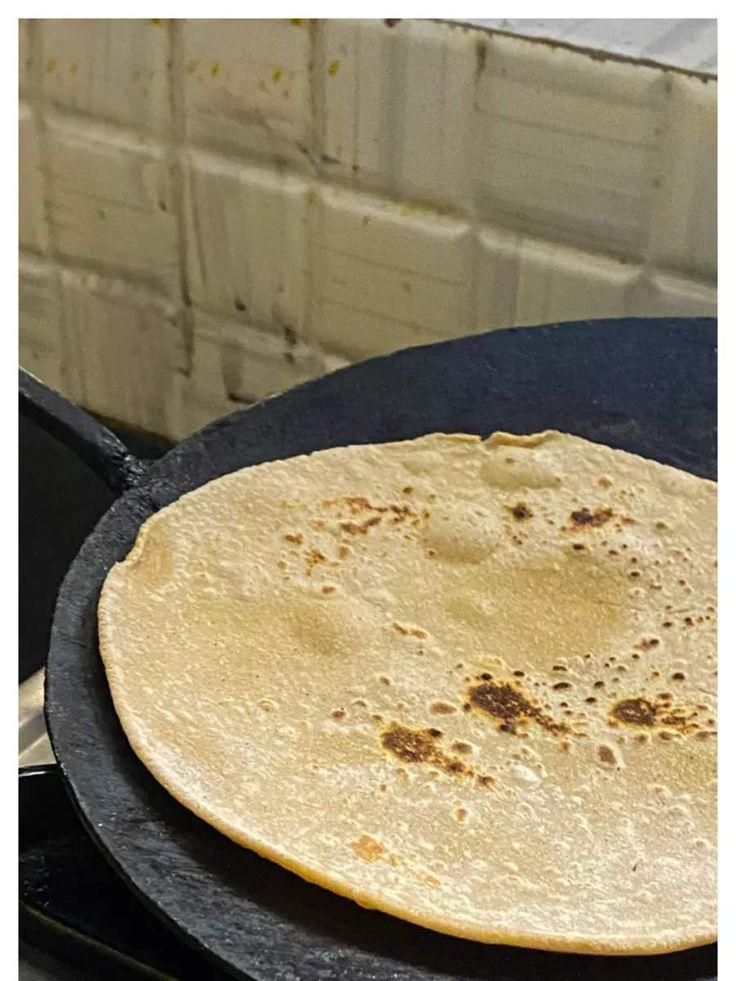roti phulka: (96, 420, 715, 959)
